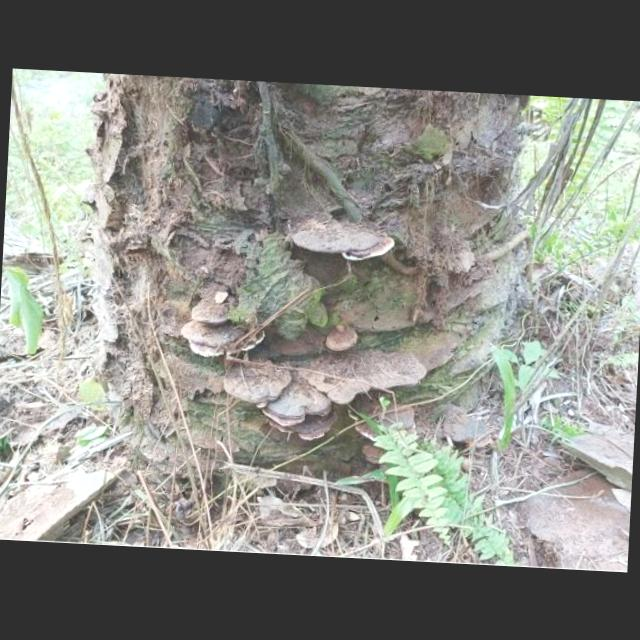ganoderma: (296, 344, 435, 411), (291, 219, 398, 265), (180, 318, 269, 361), (221, 357, 295, 408), (262, 382, 336, 432), (345, 399, 419, 449), (192, 299, 236, 329), (297, 412, 338, 444), (325, 328, 359, 352)
